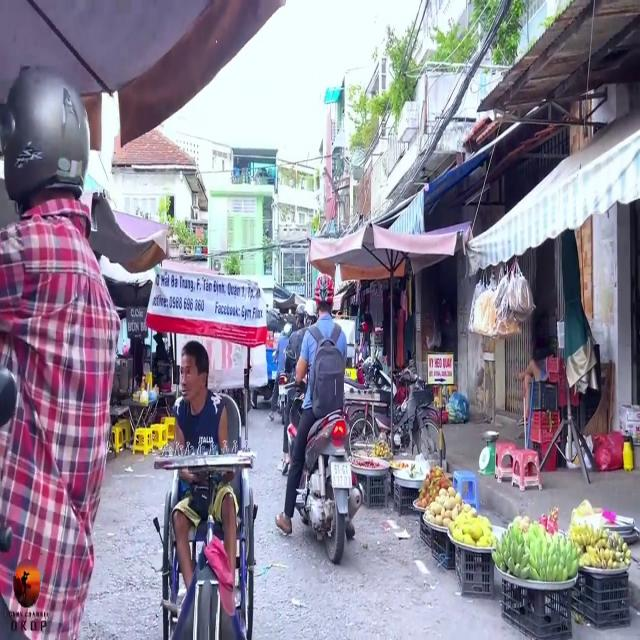bien_trang: (329, 456, 354, 494)
